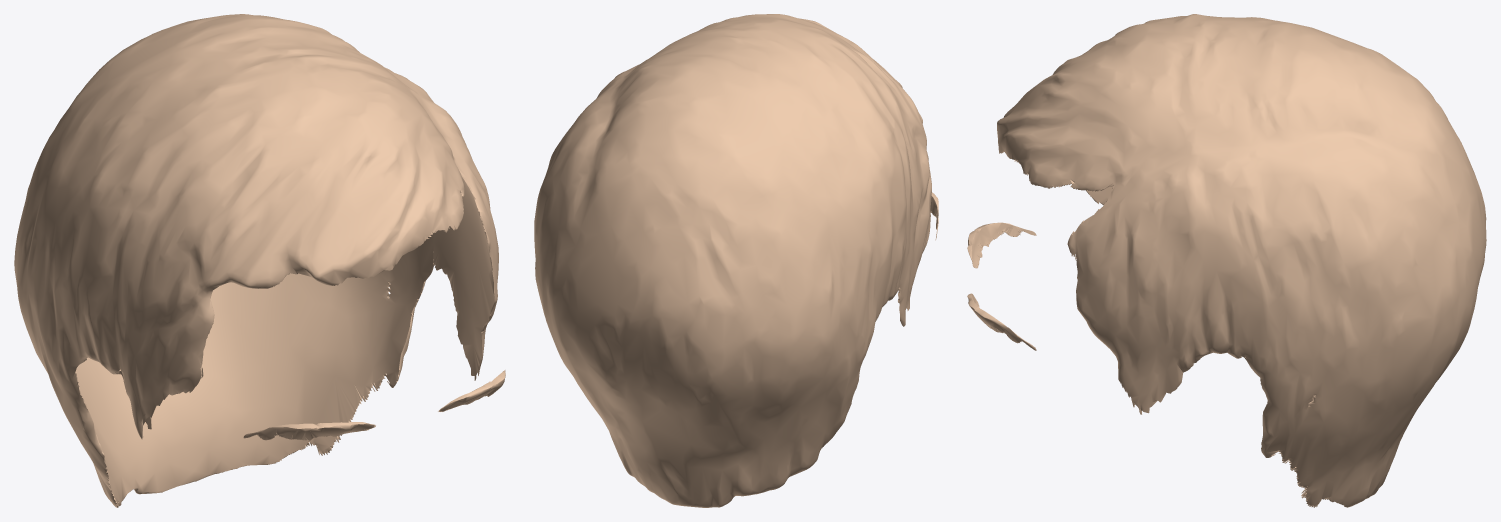
File: skin.head.glb
3 renders of one model, left to right at view 1: azimuth 30°, elevation 25°; view 2: azimuth 150°, elevation 25°; view 3: azimuth 270°, elevation 25°, orthographic. The views are drawn at different scales.
Parts seen in each view (by area): view 1: hair_of_head, eyebrow; view 2: hair_of_head; view 3: hair_of_head, eyebrow.
Boxes of the visible parts, box(x1,y1,x2,y2) form: hair_of_head: box(14, 14, 498, 507); eyebrow: box(243, 370, 505, 440); hair_of_head: box(534, 14, 931, 507); hair_of_head: box(997, 14, 1486, 507); eyebrow: box(967, 222, 1036, 350).
Bounding box in the file's own units: 0.1646 × 0.2055 × 0.2139.
